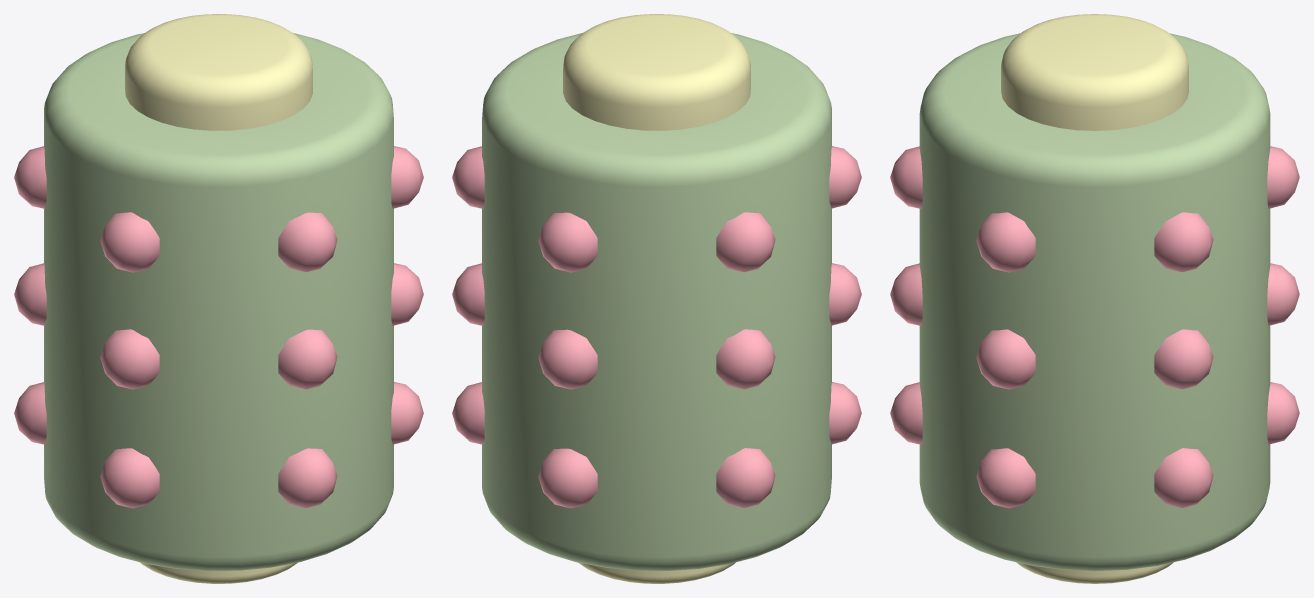
File: Grinder.fbx
The picture shows the model from 3 angles, left to right: view 1: azimuth 30°, elevation 25°; view 2: azimuth 150°, elevation 25°; view 3: azimuth 270°, elevation 25°; orthographic projection.
Parts seen in each view (by area): view 1: Grinder; view 2: Grinder; view 3: Grinder.
Part boxes in pixels (x1,y1,x2,y2): Grinder: (14,14,423,583); Grinder: (452,14,861,583); Grinder: (890,14,1299,583).
Size of the model in its own units: 143 by 219 by 162.
